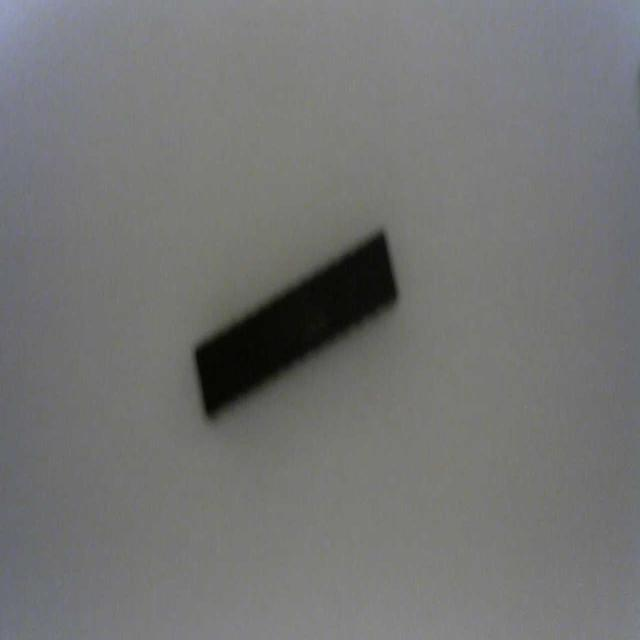atmega: (190, 223, 400, 423)
